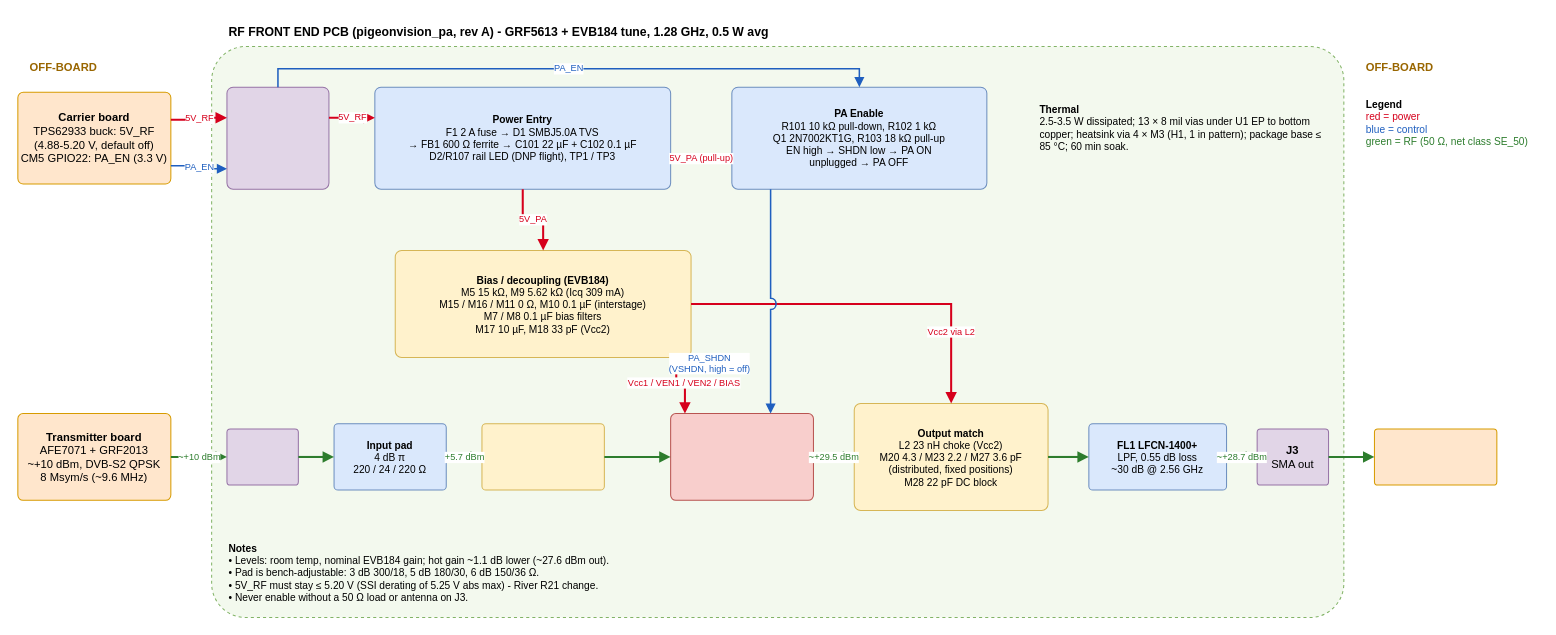
The diagram is 1556 pixels wide and 635 high, and some of its shapes have lost their labels. The shapes that lost their labels are listed below. From the top down, each one's box as (x1, y1, x2, y2) in pixels, then its label:
(226, 86, 329, 189): J6 Micro-Fit 3.0 0430450418 1 5V_RF 2 GND 3 PA_EN 4 GND
(226, 428, 298, 485): J1 SMA in
(481, 423, 604, 490): Input match M1 2.4 nH shunt M2 6.2 pF, R1 2 Ω
(670, 413, 813, 500): U1 GRF5613 2-stage InGaP HBT PA ~23.8 dB gain OP1dB 33.6 dBm
(1373, 428, 1497, 485): Flight antenna coax-fed dipole
